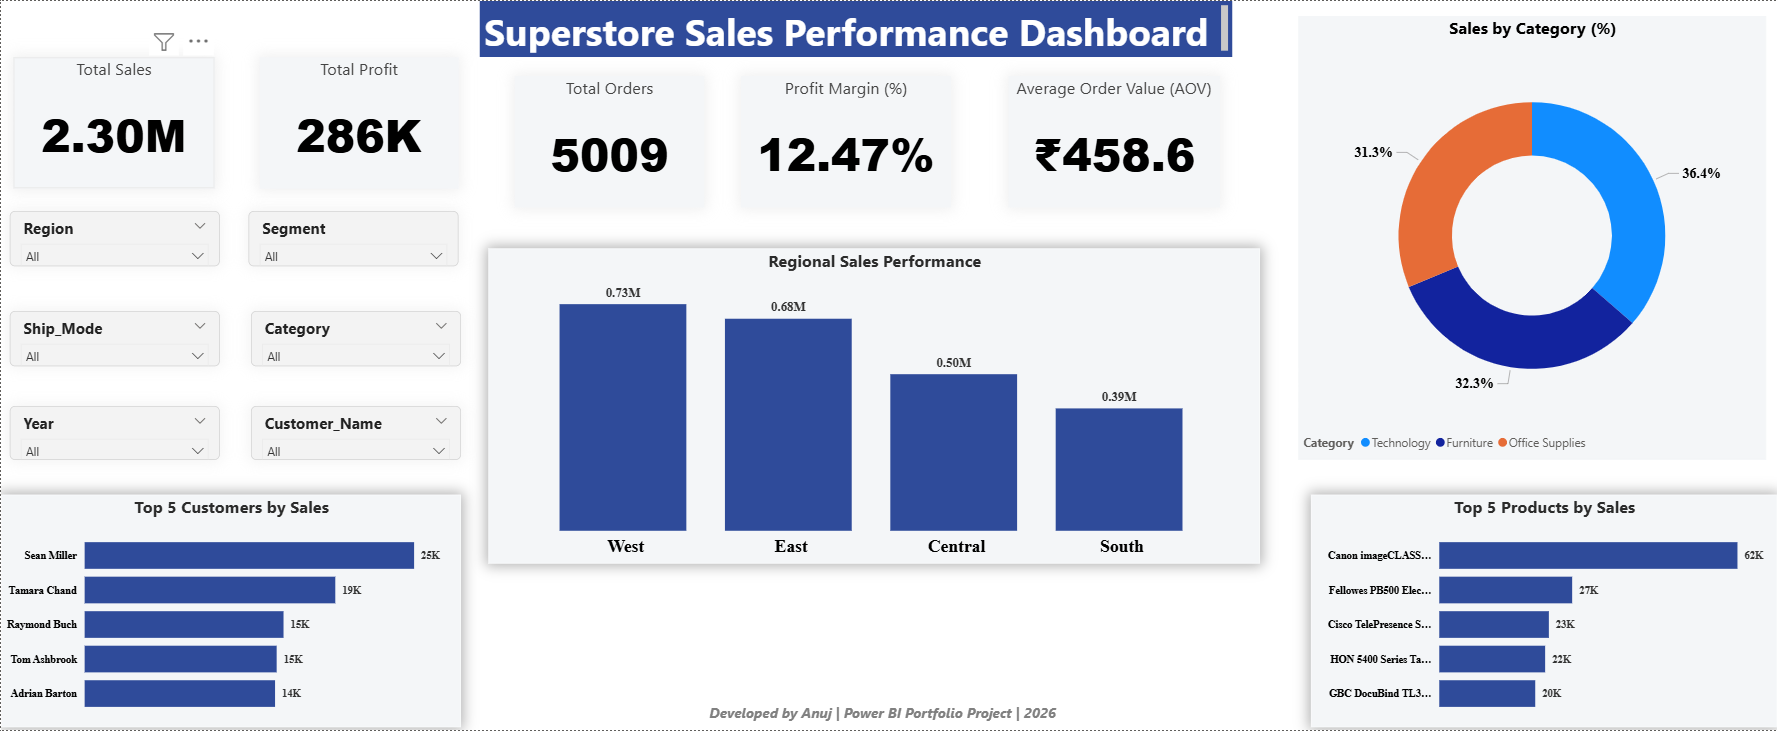

The dashboard page shown, as its layout file describes it:
{"tool":"powerbi","page":{"name":"Executive Dashboard","canvas":[2030,834],"ordinal":0},"visuals":[{"type":"card","title":"Total Sales","fields":{"Values":["superstore_sales.Sales"]},"box":[14.3,64.3,230,150],"z":0},{"type":"card","title":"Total Profit","fields":{"Values":["superstore_sales.Profit"]},"box":[295.7,64.3,227.1,150],"z":1000},{"type":"card","title":"Total Orders","fields":{"Values":["superstore_sales.Order_ID"]},"box":[587.1,85.7,217.1,150],"z":2000},{"type":"card","title":"Profit Margin (%)","fields":{"Values":["select","superstore_sales.Profit Margin %"]},"box":[845.7,85.7,240,150],"z":3000},{"type":"clusteredColumnChart","title":"Regional Sales Performance","fields":{"Category":["superstore_sales.Region"],"Y":["superstore_sales.Sales"]},"box":[557.1,282.9,881.4,360],"z":4000},{"type":"slicer","fields":{"Values":["superstore_sales.Region"]},"box":[10,240,240,62.9],"z":5000},{"type":"slicer","fields":{"Values":["superstore_sales.Segment"]},"box":[282.9,240,240,62.9],"z":6000},{"type":"slicer","fields":{"Values":["superstore_sales.Category"]},"box":[285.7,354.3,240,62.9],"z":7000},{"type":"slicer","fields":{"Values":["superstore_sales.Ship_Mode"]},"box":[10,354.3,240,62.9],"z":8000},{"type":"clusteredBarChart","title":"Top 5 Customers by Sales","fields":{"Category":["superstore_sales.Customer_Name"],"Y":["superstore_sales.Sales"]},"box":[0,564.3,525.7,265.7],"z":9000},{"type":"clusteredBarChart","title":"Top 5 Products by Sales","fields":{"Category":["superstore_sales.Product_Name"],"Y":["superstore_sales.Sales"]},"box":[1497.1,564.3,532.9,265.7],"z":10000},{"type":"donutChart","title":"Sales by Category (%)","fields":{"Category":["superstore_sales.Category"],"Y":["superstore_sales.Sales"]},"box":[1482.9,17.1,534.3,507.1],"z":11000},{"type":"slicer","fields":{"Values":["superstore_sales.Order_Date.Variation.Date Hierarchy.Year"]},"box":[10,462.9,240,61.4],"z":12000},{"type":"slicer","fields":{"Values":["superstore_sales.Customer_Name"]},"box":[285.7,462.9,240,61.4],"z":13000},{"type":"card","title":"Average Order Value (AOV)","fields":{"Values":["select","superstore_sales.AOV"]},"box":[1151.4,85.7,241.4,150],"z":14000},{"type":"textbox","box":[547.1,0,860,64.3],"z":15000},{"type":"textbox","box":[804.3,797.1,411.4,37.1],"z":15001}]}

Visuals, with their boxes in screenshot pixels (x1, y1, x2, y2), scaled from the page's 2030x834 canvas onto the 1777x731 screenshot:
"Total Sales" card: <region>13, 56, 214, 188</region>
"Total Profit" card: <region>259, 56, 458, 188</region>
"Total Orders" card: <region>514, 75, 704, 207</region>
"Profit Margin (%)" card: <region>740, 75, 950, 207</region>
"Regional Sales Performance" clusteredColumnChart: <region>488, 248, 1259, 564</region>
slicer - superstore_sales.Region: <region>9, 210, 219, 265</region>
slicer - superstore_sales.Segment: <region>248, 210, 458, 265</region>
slicer - superstore_sales.Category: <region>250, 311, 460, 366</region>
slicer - superstore_sales.Ship_Mode: <region>9, 311, 219, 366</region>
"Top 5 Customers by Sales" clusteredBarChart: <region>0, 495, 460, 727</region>
"Top 5 Products by Sales" clusteredBarChart: <region>1311, 495, 1776, 727</region>
"Sales by Category (%)" donutChart: <region>1298, 15, 1766, 459</region>
slicer - superstore_sales.Order_Date.Variation.Date Hierarchy.Year: <region>9, 406, 219, 460</region>
slicer - superstore_sales.Customer_Name: <region>250, 406, 460, 460</region>
"Average Order Value (AOV)" card: <region>1008, 75, 1219, 207</region>
textbox: <region>479, 0, 1232, 56</region>
textbox: <region>704, 699, 1064, 730</region>
